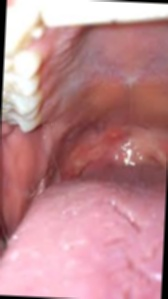Ulcer: (94, 124, 130, 143)
